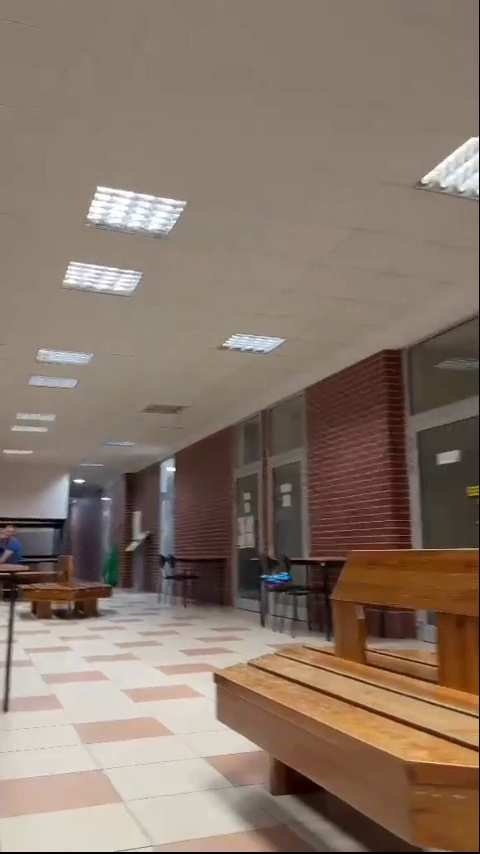drone: (259, 573, 291, 586)
no vest: (0, 521, 35, 579)
